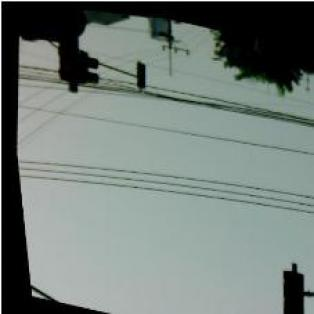Semaforo Rojo: (50, 17, 84, 80), (270, 263, 304, 314)
